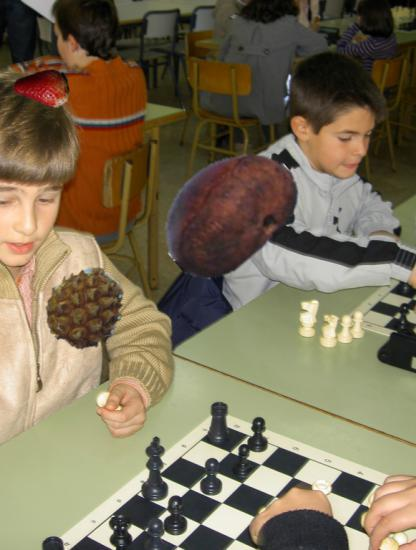Chestnut: (155, 138, 302, 285)
Pineapple: (44, 267, 127, 350)
Strawberry: (14, 63, 69, 118)
